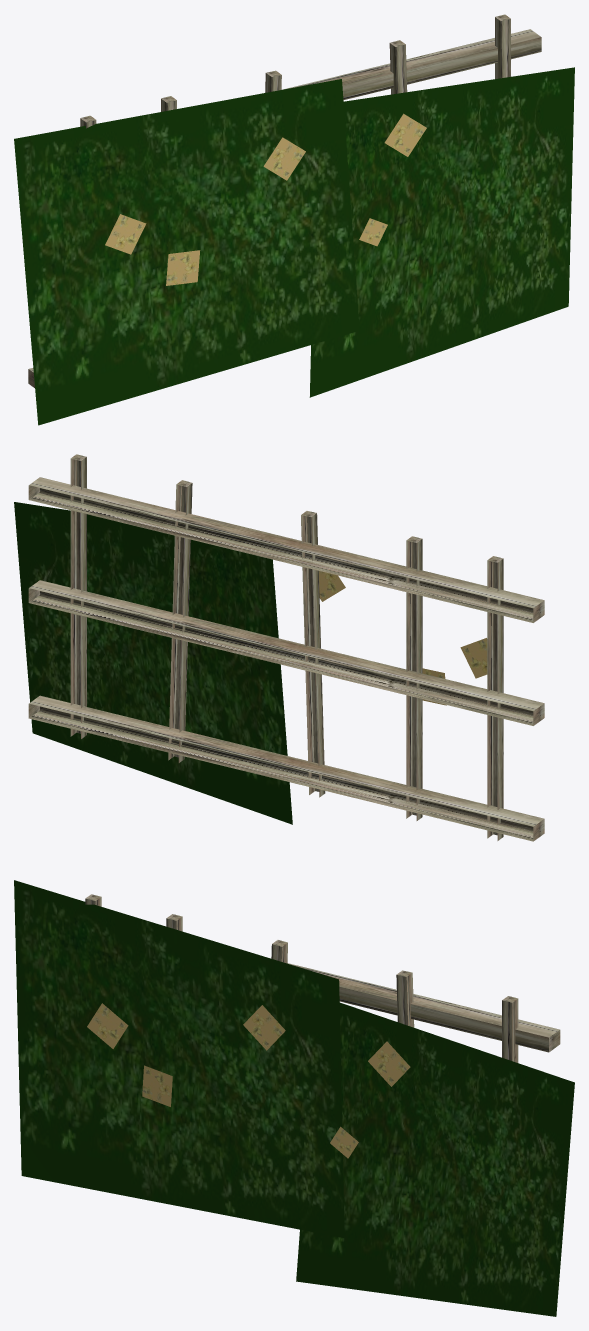
Rendered from trellis_e.fbx.
The picture shows the model from 3 angles, top to bottom: view 1: azimuth 30°, elevation 25°; view 2: azimuth 150°, elevation 25°; view 3: azimuth 330°, elevation 25°; orthographic projection.
Visible parts, largest first — view 1: vines, vines1, post_horiz2, flowers.001, flowers2, flowers4, flowers3, trellis_lath2, trellis_lath; view 2: vines1, trellis_horiz3, trellis_horiz1, post_horiz2, trellis_lath3, trellis_lath4, trellis_lath1, trellis_lath2, trellis_lath, flowers2, flowers4; view 3: vines, vines1, post_horiz2, trellis_lath2, flowers2, flowers4, flowers3, flowers.001, trellis_lath.
Boxes of the visible parts, left/top/right/bottom form: vines: left=14, top=79, right=359, bottom=425; vines1: left=309, top=67, right=574, bottom=397; post_horiz2: left=283, top=29, right=541, bottom=100; flowers.001: left=166, top=250, right=200, bottom=285; flowers2: left=105, top=214, right=146, bottom=254; flowers4: left=263, top=137, right=305, bottom=180; flowers3: left=384, top=113, right=426, bottom=156; trellis_lath2: left=495, top=14, right=510, bottom=78; trellis_lath: left=389, top=40, right=407, bottom=94; vines1: left=14, top=502, right=292, bottom=824; trellis_horiz3: left=28, top=580, right=544, bottom=725; trellis_horiz1: left=28, top=695, right=544, bottom=841; post_horiz2: left=28, top=477, right=544, bottom=622; trellis_lath3: left=301, top=511, right=325, bottom=797; trellis_lath4: left=406, top=536, right=422, bottom=820; trellis_lath1: left=487, top=556, right=503, bottom=840; trellis_lath2: left=70, top=454, right=86, bottom=738; trellis_lath: left=168, top=480, right=192, bottom=762; flowers2: left=460, top=638, right=487, bottom=678; flowers4: left=319, top=571, right=345, bottom=601; vines: left=14, top=880, right=344, bottom=1238; vines1: left=296, top=1002, right=574, bottom=1316; post_horiz2: left=287, top=963, right=560, bottom=1052; trellis_lath2: left=502, top=996, right=518, bottom=1062; flowers2: left=87, top=1003, right=128, bottom=1048; flowers4: left=243, top=1005, right=285, bottom=1050; flowers3: left=368, top=1041, right=410, bottom=1086; flowers.001: left=142, top=1065, right=172, bottom=1106; trellis_lath: left=396, top=970, right=414, bottom=1027.
Bounding box in the file's own units: 1497 × 828 × 134.
2 materials, 2 textured.
